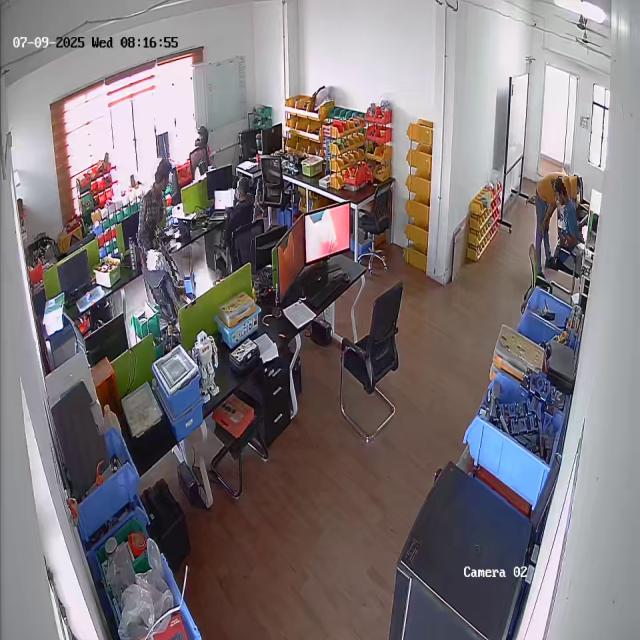person: (139, 228, 184, 306), (140, 157, 174, 255), (221, 176, 260, 250), (554, 176, 581, 245)
